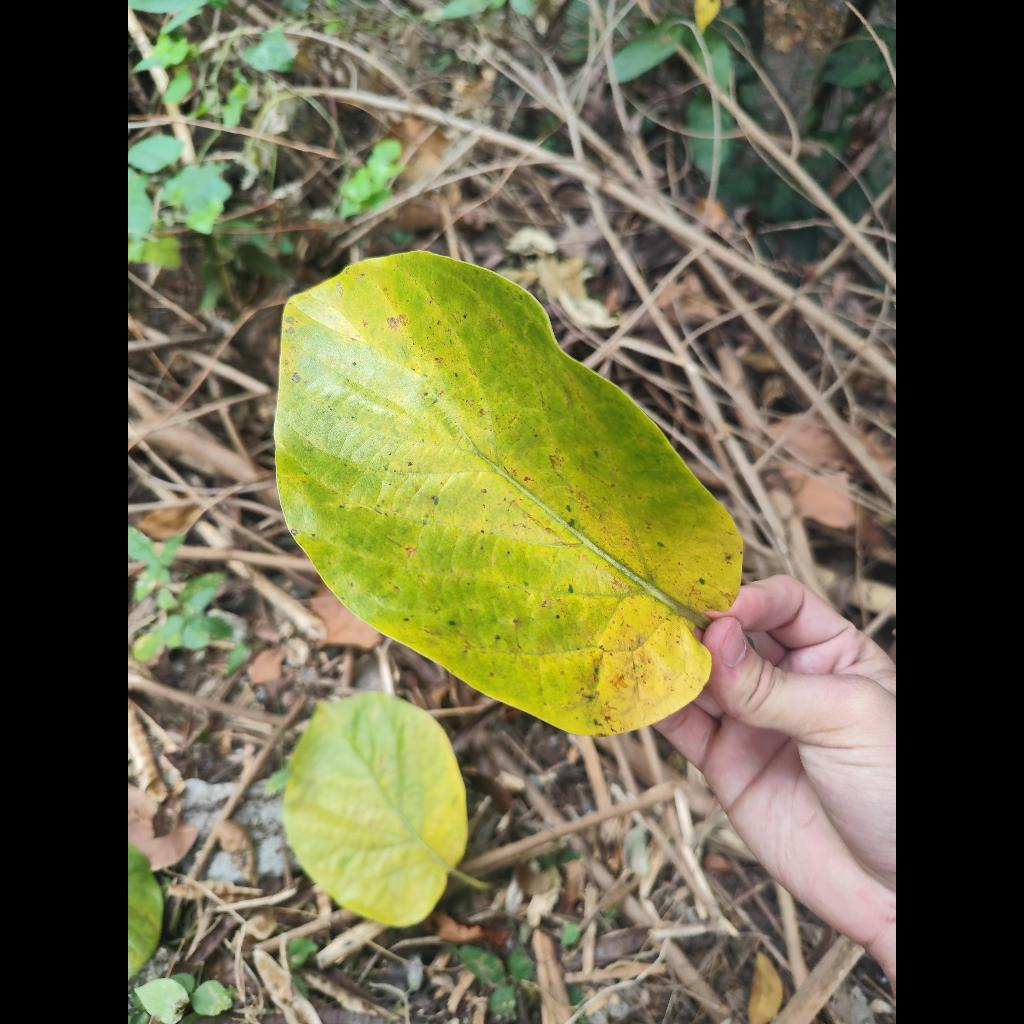nutrient_deficiency: (275, 252, 742, 735)
